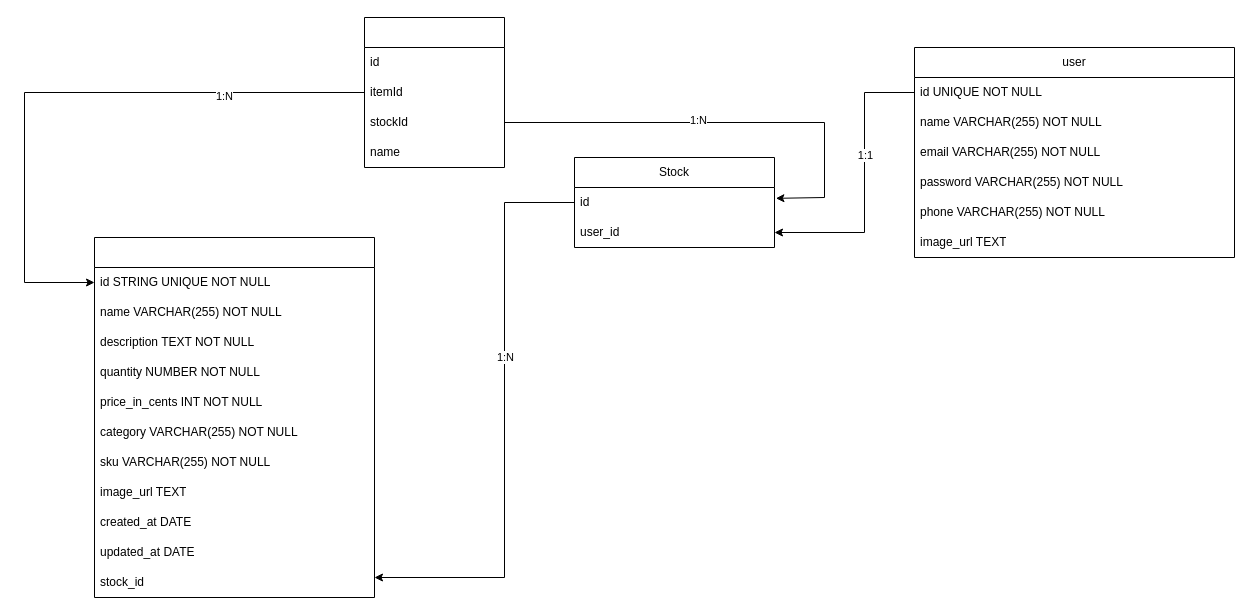
Image size: 1252x615. Some labels were removed from this diagram. The box of each missing label's shape, as (x1, y1, x2, y2) in pixels:
Category: (364, 16, 504, 168)
Item: (94, 236, 374, 598)
